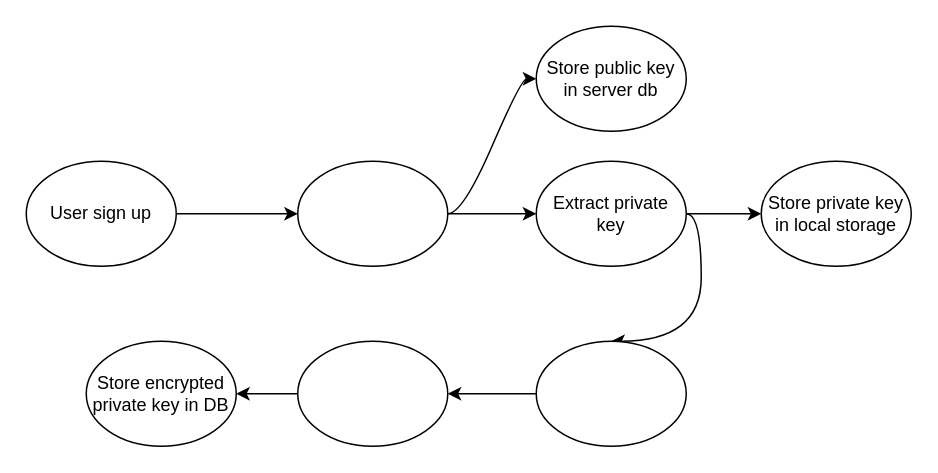
The diagram is 938 pixels wide and 473 high, and some of its shapes have lost their labels. The centre of each missing label's shape, as x and y in pixels:
Create key pair: [372,213]
Encrypt private key with hashed password: [372,393]
Hash User password: [610,393]
